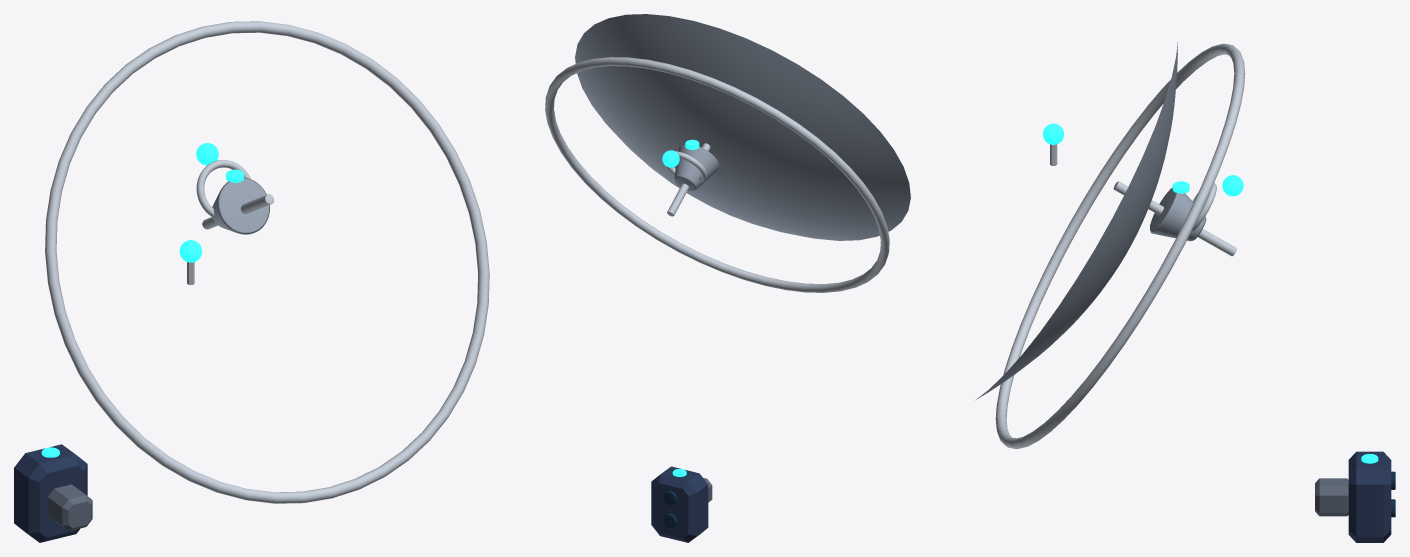
The model's file is tower_skywatch_range_s5.glb.
3 views of the same model, side by side, from view 1: azimuth 30°, elevation 25°; view 2: azimuth 150°, elevation 25°; view 3: azimuth 270°, elevation 25° (orthographic). The views are drawn at different scales.
Parts seen in each view (by area): view 1: skywatch_wide_rim, skywatch_sensor_cluster, skywatch_feed_horn, skywatch_sensor_mount, skywatch_feed_horn_ring; view 2: skywatch_wide_dish, skywatch_wide_rim, skywatch_sensor_cluster, skywatch_feed_horn; view 3: skywatch_wide_rim, skywatch_wide_dish, skywatch_sensor_cluster, skywatch_feed_horn, skywatch_sensor_mount, skywatch_wide_feed_arm.
Part boxes in pixels (x1=…): skywatch_wide_rim: x1=45, y1=21, x2=489, y2=503; skywatch_sensor_cluster: x1=14, y1=444, x2=87, y2=542; skywatch_feed_horn: x1=212, y1=177, x2=269, y2=234; skywatch_sensor_mount: x1=47, y1=484, x2=92, y2=530; skywatch_feed_horn_ring: x1=196, y1=160, x2=250, y2=218; skywatch_wide_dish: x1=575, y1=14, x2=910, y2=240; skywatch_wide_rim: x1=545, y1=57, x2=889, y2=292; skywatch_sensor_cluster: x1=651, y1=466, x2=708, y2=542; skywatch_feed_horn: x1=674, y1=144, x2=719, y2=190; skywatch_wide_rim: x1=995, y1=43, x2=1245, y2=449; skywatch_wide_dish: x1=976, y1=42, x2=1177, y2=399; skywatch_sensor_cluster: x1=1348, y1=451, x2=1391, y2=542; skywatch_feed_horn: x1=1150, y1=187, x2=1206, y2=241; skywatch_sensor_mount: x1=1315, y1=478, x2=1348, y2=516; skywatch_wide_feed_arm: x1=1113, y1=181, x2=1236, y2=256.
Size of the model in its own units: 1.52 by 1.94 by 1.5.
